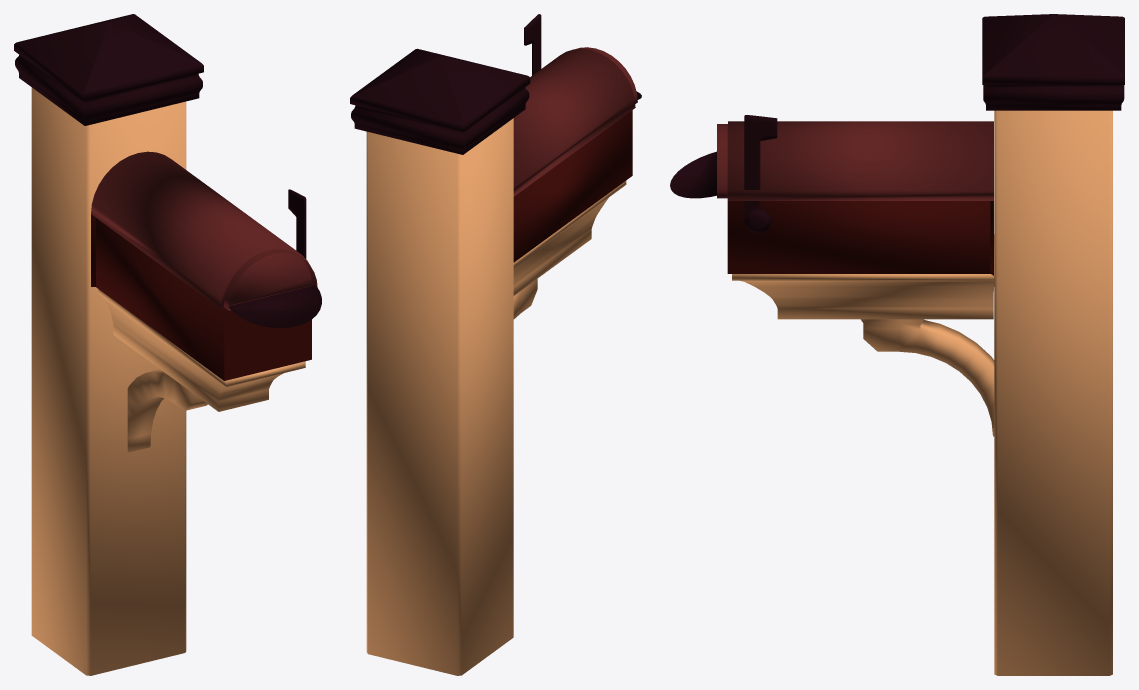
Rendered from Mailbox.fbx.
3 views of the same model, side by side, from view 1: azimuth 30°, elevation 25°; view 2: azimuth 150°, elevation 25°; view 3: azimuth 270°, elevation 25° (orthographic). The views are drawn at different scales.
Parts seen in each view (by area): view 1: column, mailbox, columntop, boxsupport, mailbox.002, flag, mailbox.001; view 2: column, mailbox, columntop, boxsupport, flag; view 3: column, mailbox, boxsupport, columntop, flag, mailbox.002, mailbox.001.
Boxes of the visible parts, <box> form: column: <box>31,87,186,675</box>; mailbox: <box>91,151,311,380</box>; columntop: <box>14,14,203,125</box>; boxsupport: <box>98,289,305,452</box>; mailbox.002: <box>229,285,321,328</box>; flag: <box>288,189,306,258</box>; mailbox.001: <box>223,249,317,310</box>; column: <box>366,118,513,675</box>; mailbox: <box>513,48,635,262</box>; columntop: <box>350,48,530,154</box>; boxsupport: <box>513,181,626,319</box>; flag: <box>524,14,541,75</box>; column: <box>994,110,1112,675</box>; mailbox: <box>727,121,993,275</box>; boxsupport: <box>732,234,994,436</box>; columntop: <box>982,14,1124,110</box>; flag: <box>744,115,777,233</box>; mailbox.002: <box>670,151,716,198</box>; mailbox.001: <box>717,124,727,198</box>.
Size of the model in its own units: 240 by 1183 by 767.
